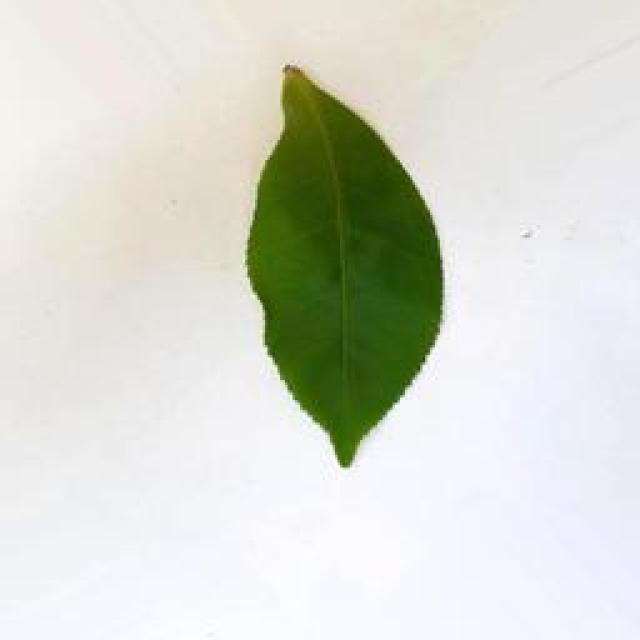Healthy: (222, 49, 468, 478)
